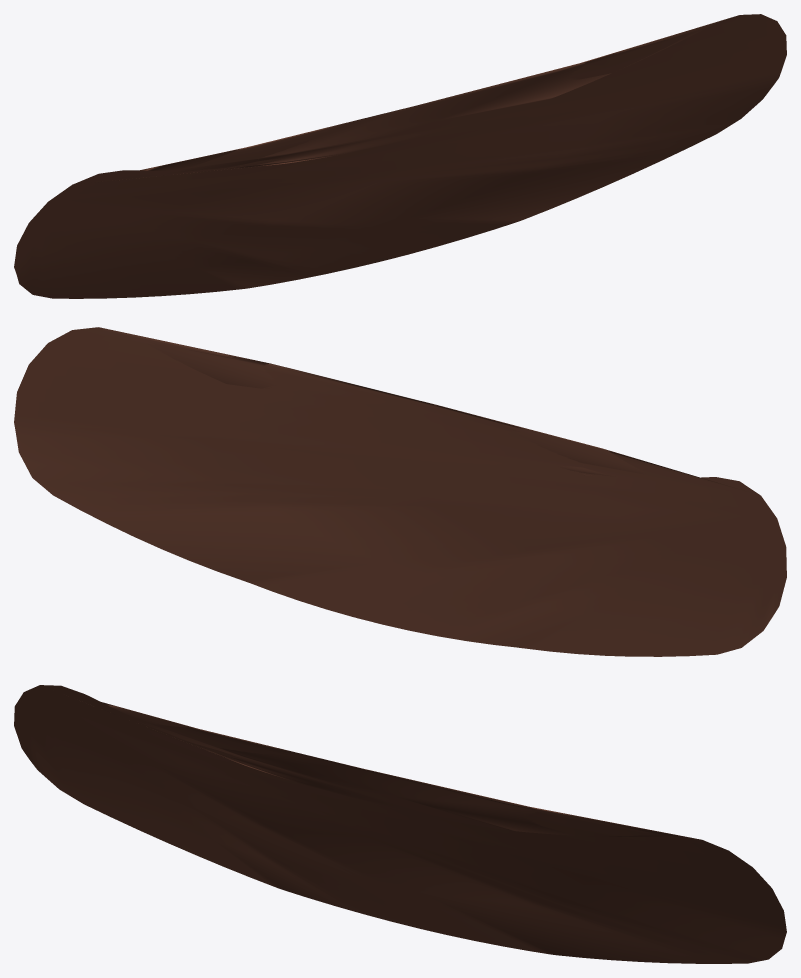
Rendered from mouth_neutral.glb.
3 views of the same model, one above another, from view 1: azimuth 30°, elevation 25°; view 2: azimuth 150°, elevation 25°; view 3: azimuth 330°, elevation 25° (orthographic).
Visible parts, largest first — view 1: Cat_mouth_neutral.001; view 2: Cat_mouth_neutral.001; view 3: Cat_mouth_neutral.001.
Boxes of the visible parts, x1,y1,x2,y2 form: Cat_mouth_neutral.001: (14,14,786,298); Cat_mouth_neutral.001: (14,327,786,656); Cat_mouth_neutral.001: (14,685,786,963).
Bounding box in the file's own units: 0.027 × 0.00649 × 0.00271.
